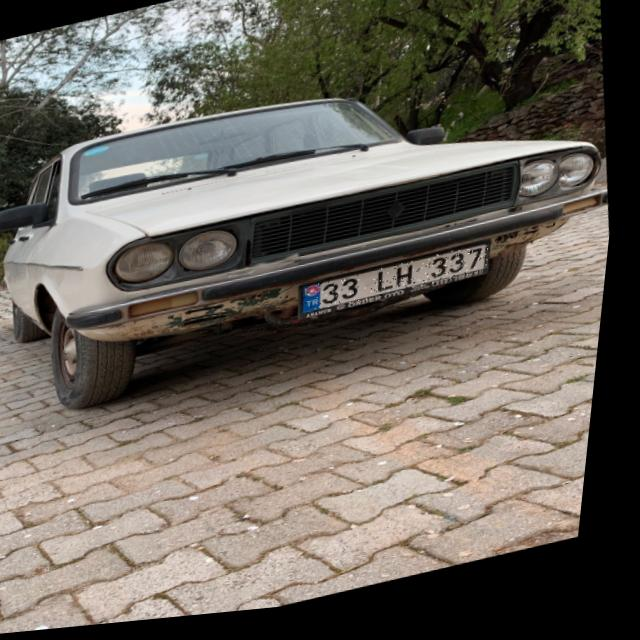license_plate: (308, 253, 498, 321)
